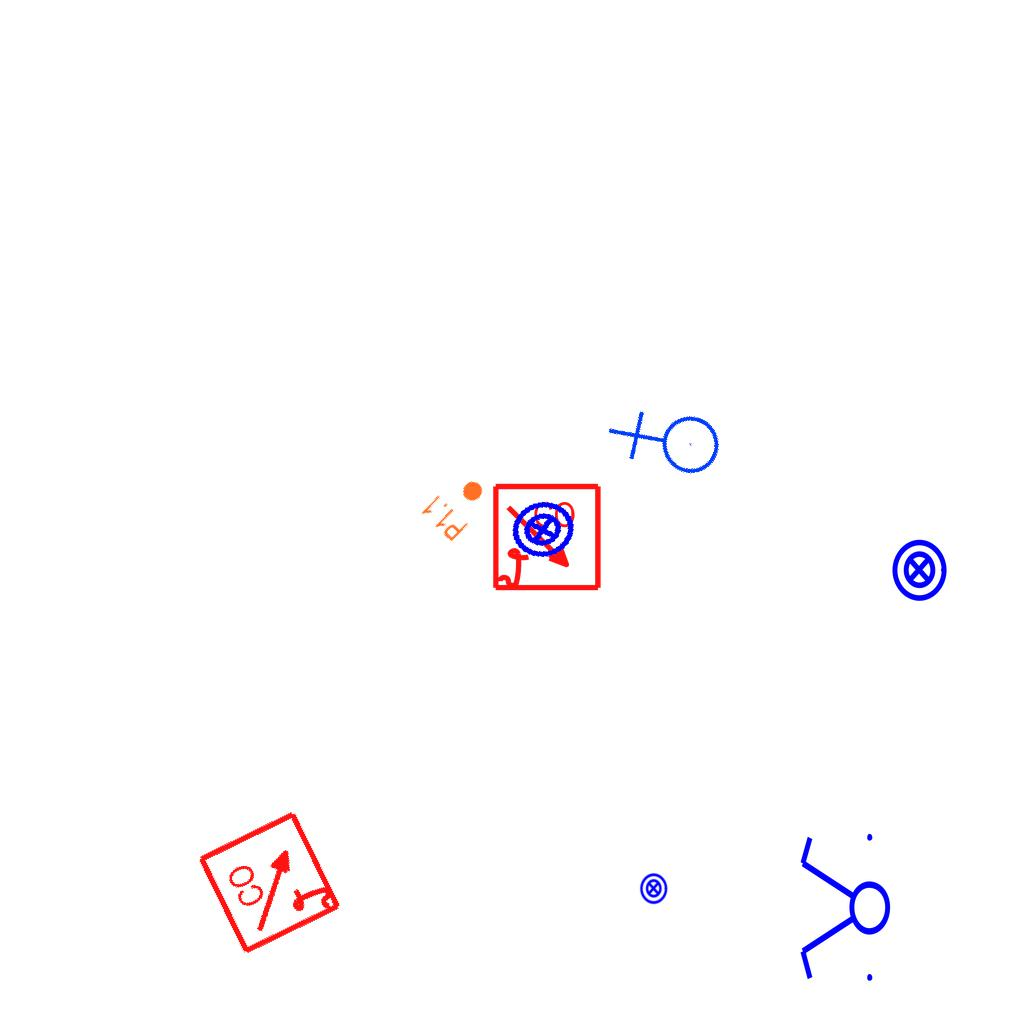Downlight_LED_Einbauleuchten_Flur: (418, 466, 496, 544)
Elektroanschluss_allgemein_230V_Geraeteanschlussdose_230V: (602, 377, 737, 513)
ROA_Rauchmelder_optisch_mit_Signalgeber_(Sockelsirene): (194, 805, 347, 958), (491, 482, 604, 595)
Serienschalter: (796, 825, 892, 993)
Taster_beleuchtet: (503, 490, 583, 570), (886, 537, 952, 603), (637, 872, 670, 905)
